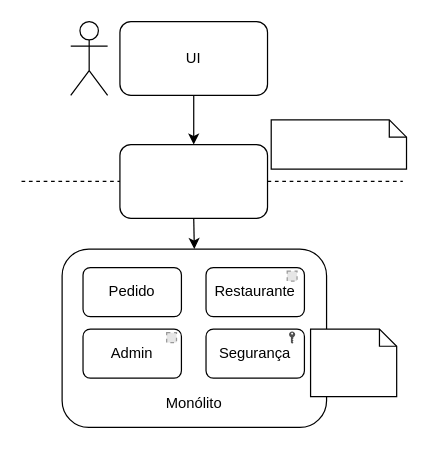
The diagram is 428 pixels wide and 449 high, and some of its shapes have lost their labels. Grey dashed boxes stand in for pictures. Here are the shapes that lost their labels. From the top down, the centre of each, then its label:
At pixel 338 144: "Proxy API Composer".
At pixel 193 180: "API Gateway".
At pixel 353 362: "Gera e valida tokens".
